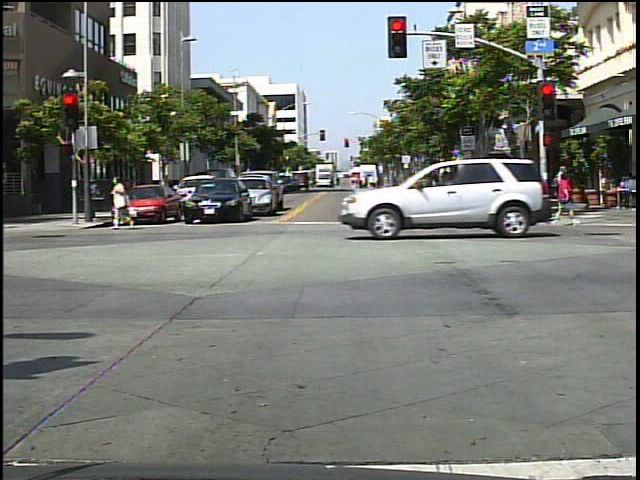person: (548, 169, 581, 231), (108, 171, 139, 235), (549, 160, 571, 211)
